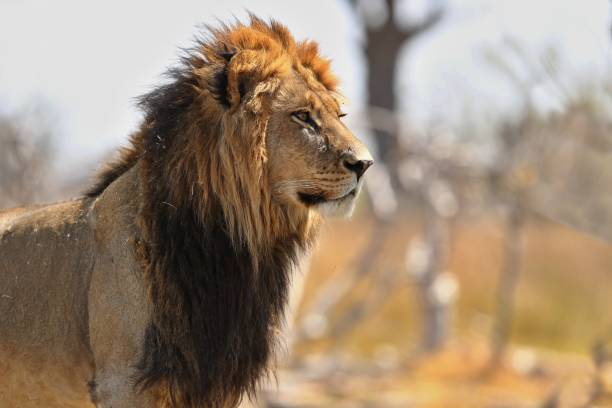lion: (111, 13, 388, 408)
